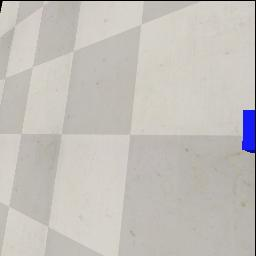box: (242, 109, 255, 153)
